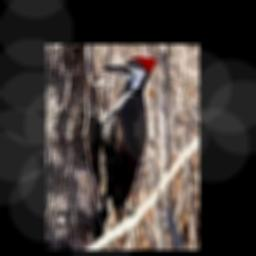Woodpecker: (97, 57, 156, 242)
